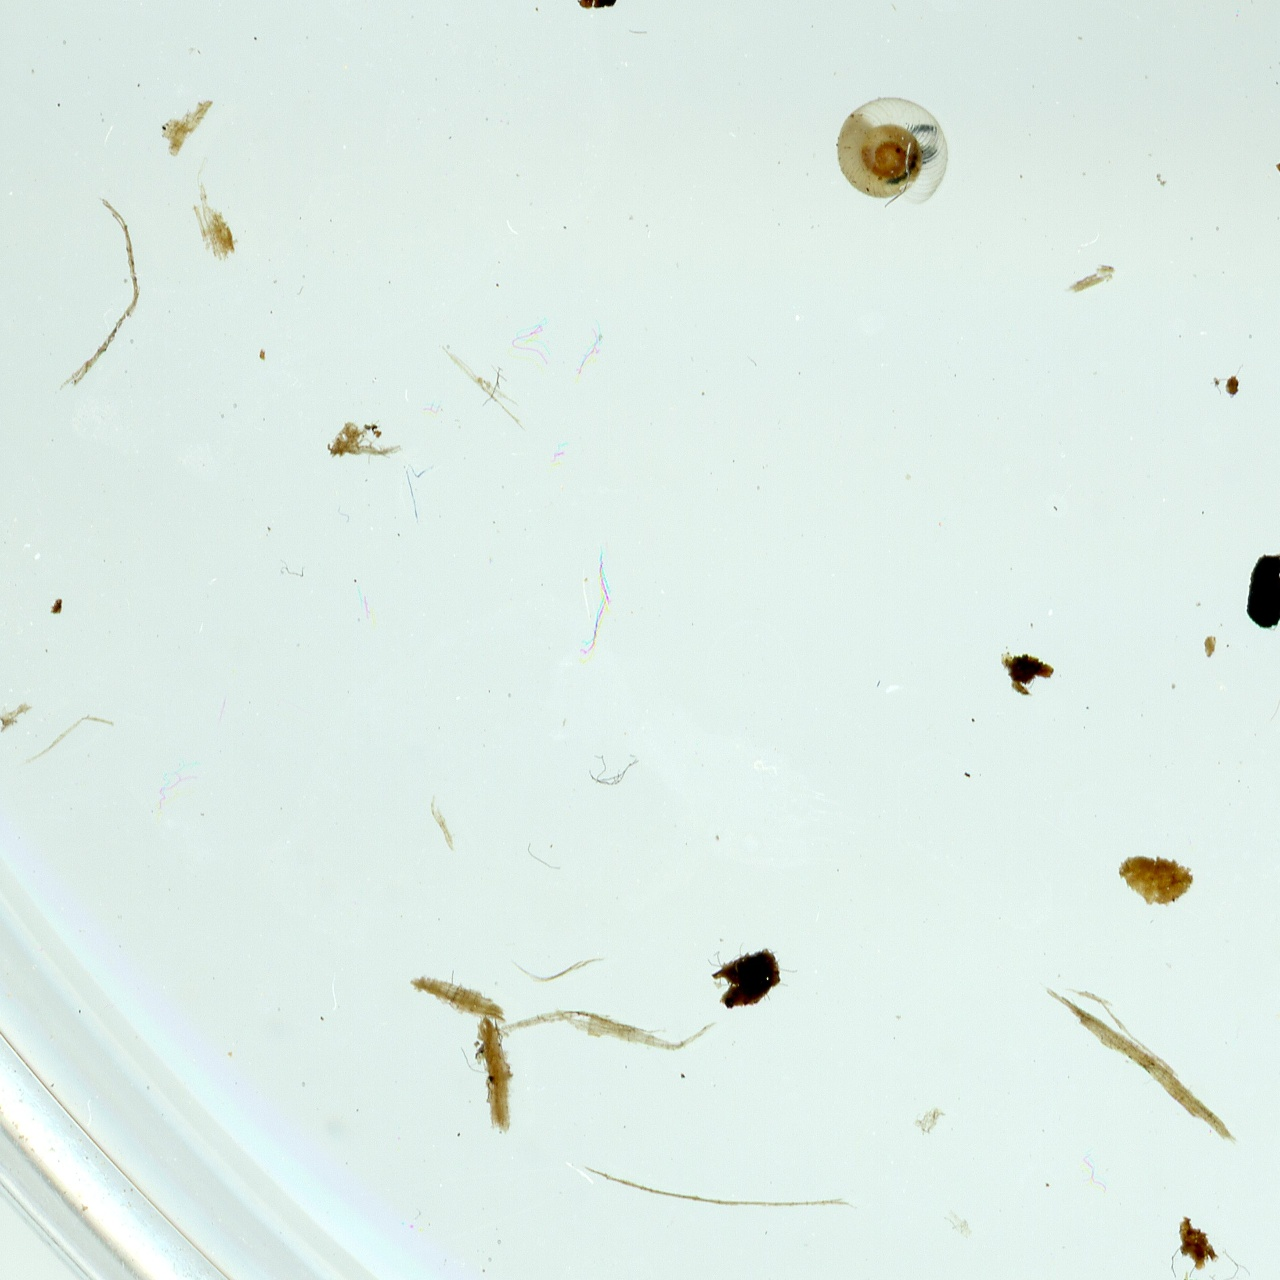arthropod: (833, 93, 953, 210)
